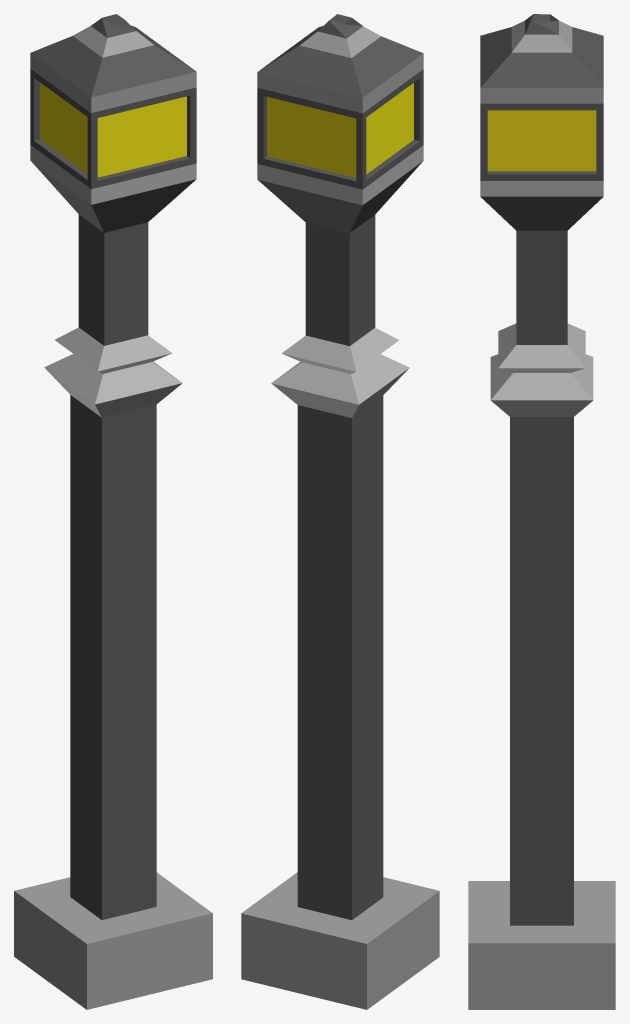
File: Laterne.fbx
The picture shows the model from 3 angles, left to right: view 1: azimuth 30°, elevation 25°; view 2: azimuth 150°, elevation 25°; view 3: azimuth 270°, elevation 25°; orthographic projection.
Visible parts, largest first — view 1: Lantern; view 2: Lantern; view 3: Lantern.
Boxes of the visible parts, x1,y1,x2,y2 form: Lantern: (14, 14, 212, 1009); Lantern: (241, 14, 439, 1009); Lantern: (468, 14, 615, 1009).
Bounding box in the file's own units: 0.4283 × 3.08 × 0.4283.
